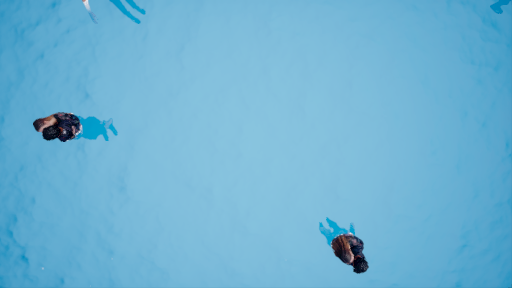person: (315, 214, 380, 274), (29, 110, 123, 143)
